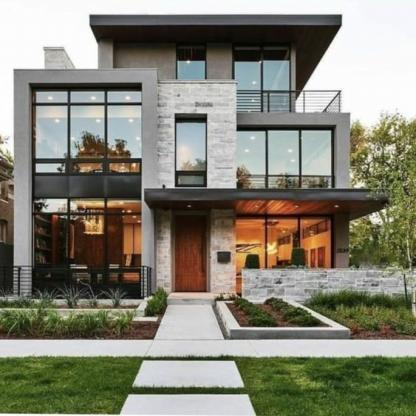Balcony: (1, 266, 151, 299), (237, 91, 342, 113)
Building Outline: (1, 14, 415, 316)
Deco: (337, 248, 349, 255)
Door: (176, 215, 206, 292)
Facade: (0, 14, 415, 315)
Floor Slab: (34, 173, 141, 197), (237, 114, 350, 125)
Glass Wall: (69, 199, 105, 294), (33, 199, 68, 294), (106, 199, 141, 294), (70, 91, 105, 159), (107, 91, 141, 159), (300, 219, 331, 293), (267, 219, 298, 293), (35, 91, 68, 159), (236, 219, 265, 293), (301, 131, 332, 189), (268, 131, 299, 189), (263, 47, 290, 112), (235, 47, 261, 112), (237, 131, 265, 189)
Window: (176, 123, 206, 171), (177, 43, 206, 79), (109, 163, 140, 173), (72, 163, 103, 173), (35, 163, 65, 173), (178, 175, 204, 184)
